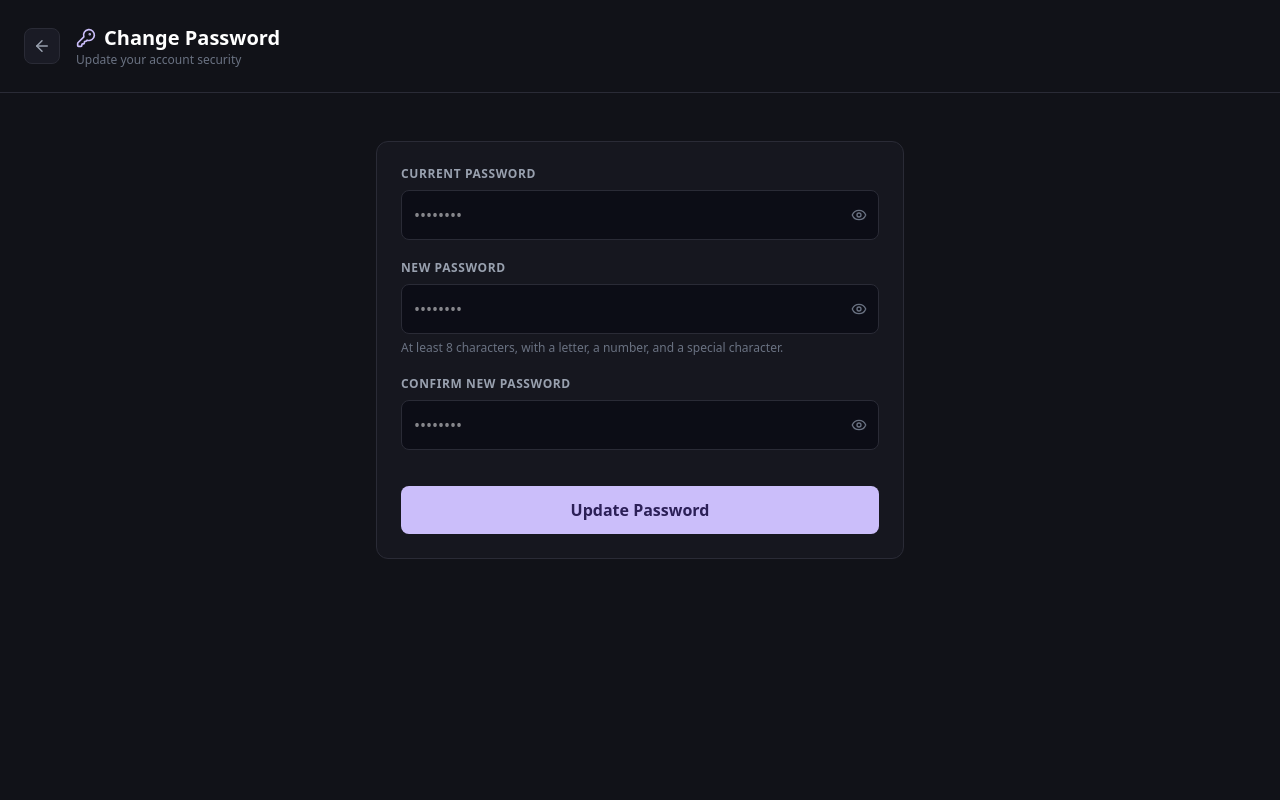
Test: AdminPasswordUpdatePage › rejects a weak new password client-side
The image size is (1280, 800).
In the password field with placeholder "••••••••" below "Current Password": x=640, y=215 [401, 190, 879, 240], type "Old1234!"
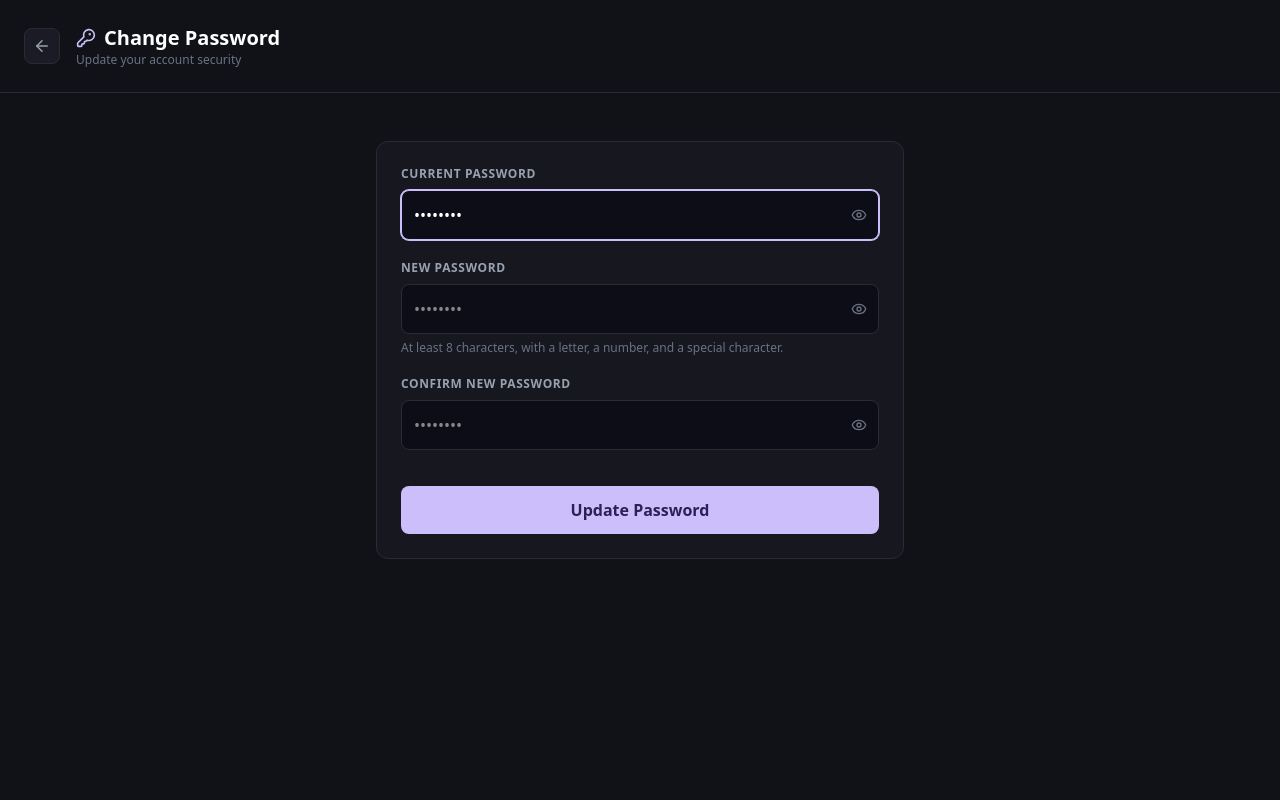
In the 1st password field with placeholder "••••••••": x=640, y=309 [401, 284, 879, 334], type "weak"
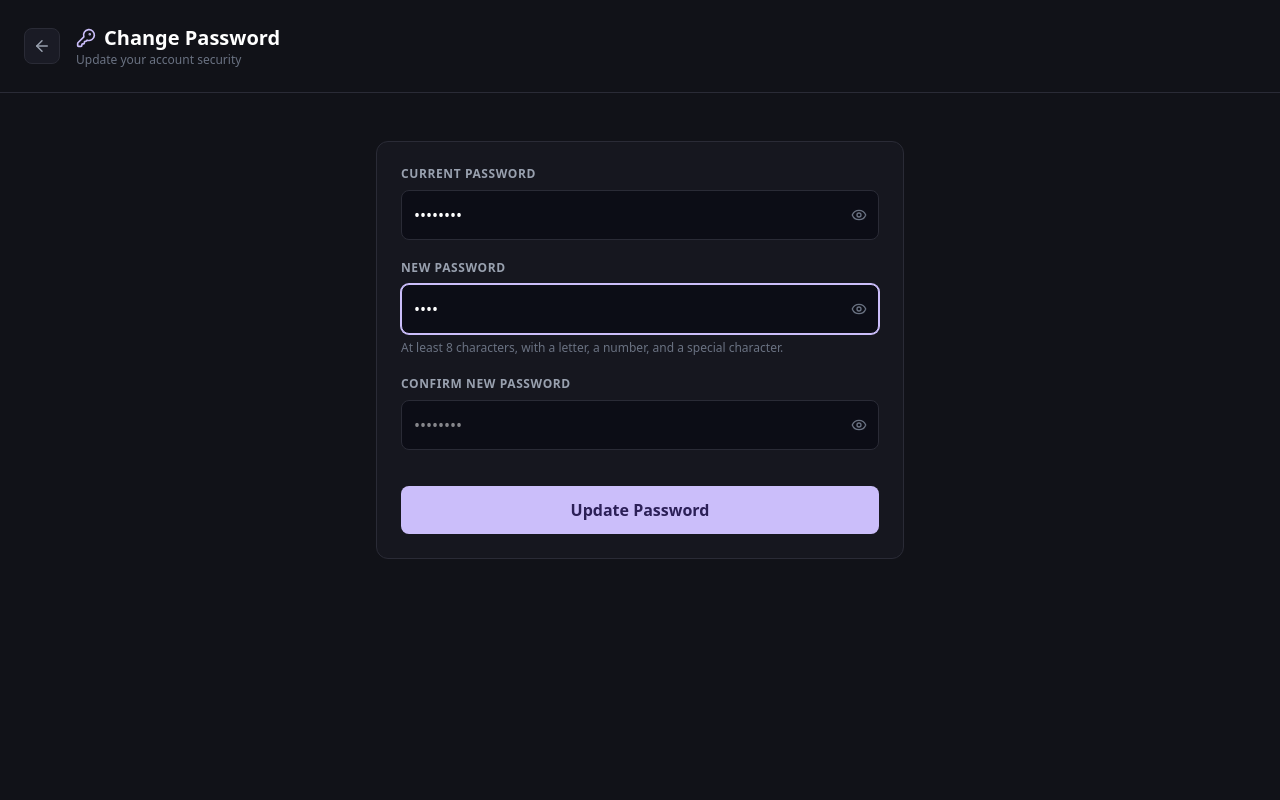
In the password field with placeholder "••••••••": x=640, y=425 [401, 400, 879, 450], type "weak"
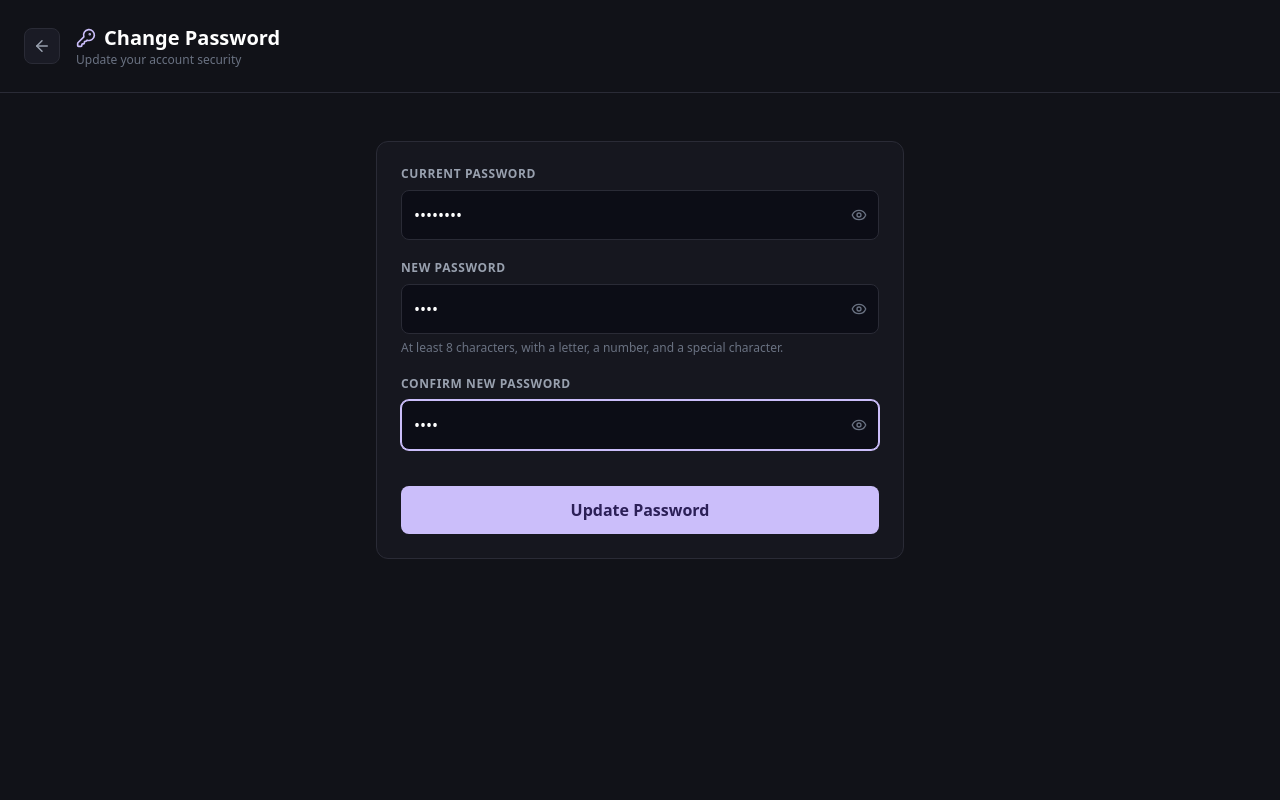
Click the button "Update Password": x=640, y=510 [401, 486, 879, 534]
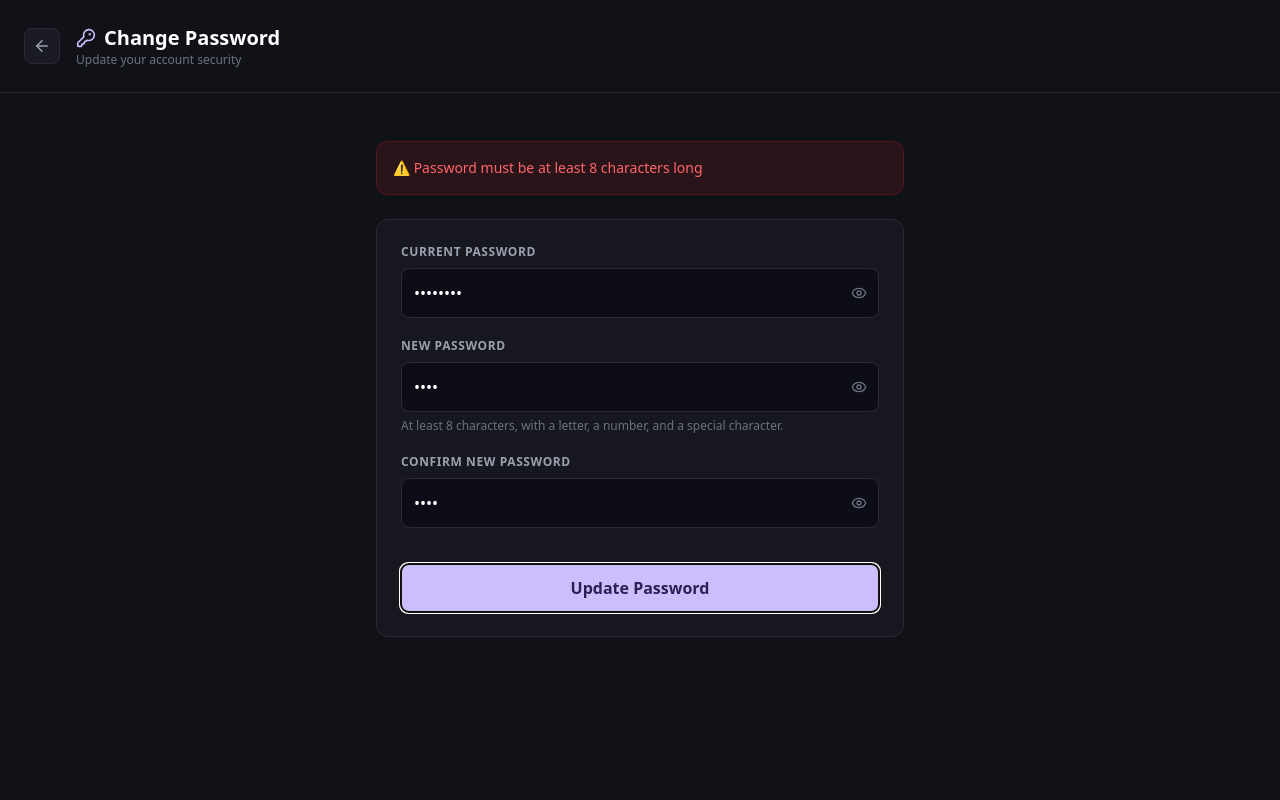
Now the text "⚠ Password must be at least 8 characters long" is shown, box [376, 141, 904, 195]
